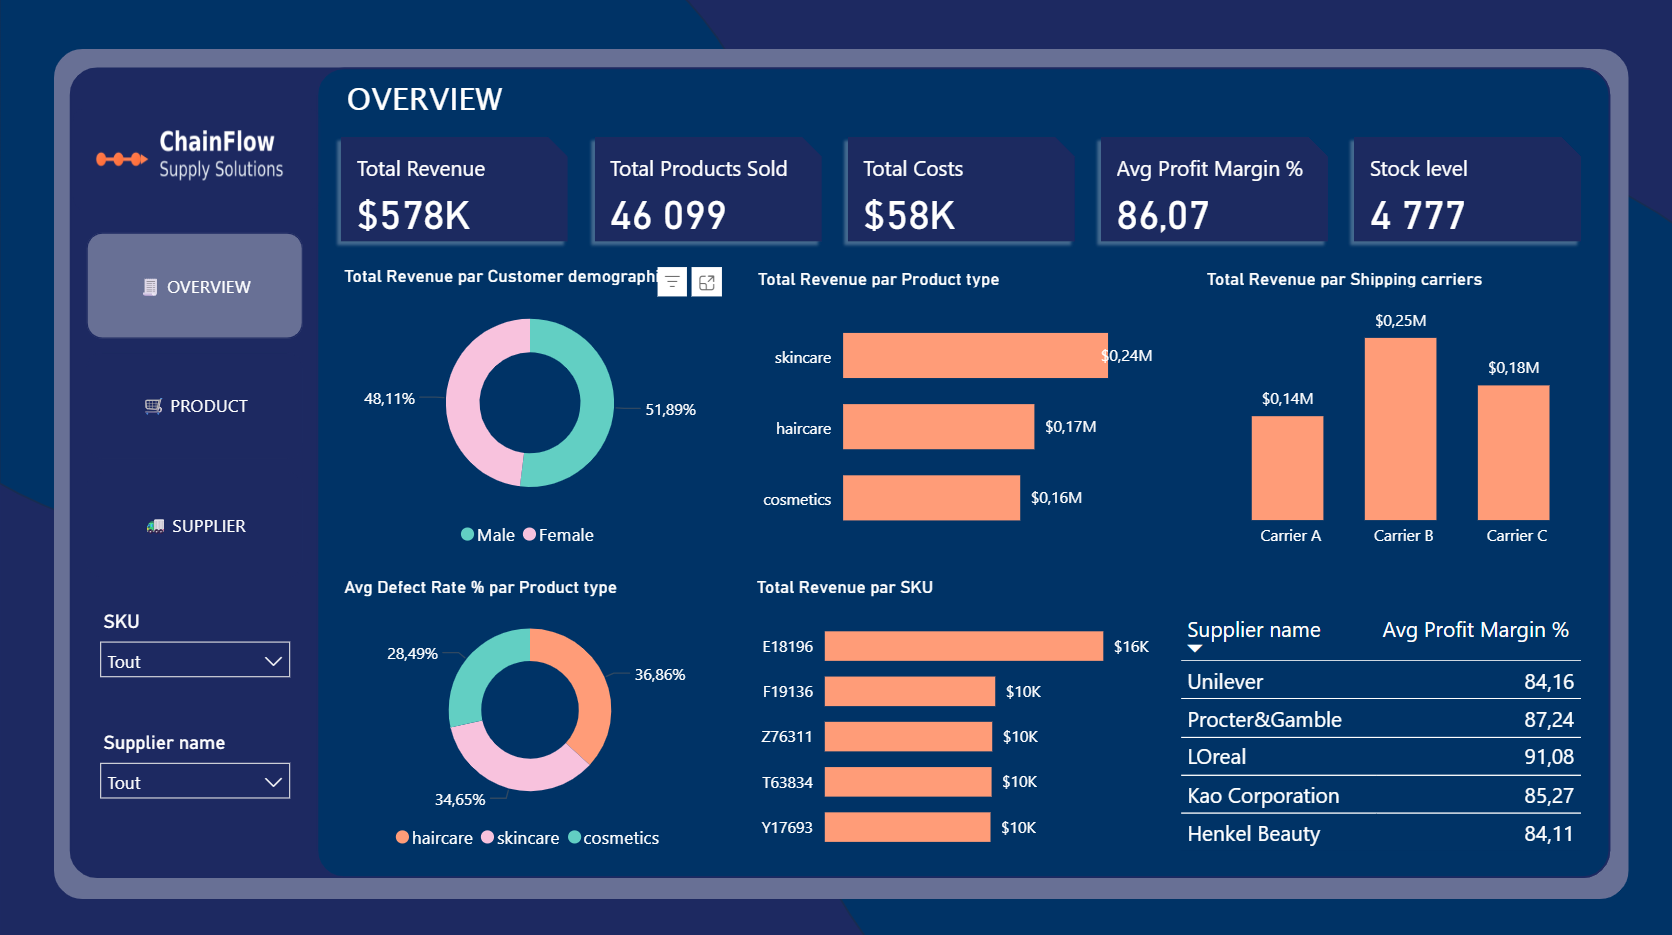

The page's visual inventory and layout, read from the dashboard file:
{"tool":"powerbi","page":{"name":"🧾    OVERVIEW","canvas":[1280,720],"ordinal":0},"visuals":[{"type":"cardVisual","fields":{"Data":["_Measures.Total Revenue","_Measures.Total Products Sold","_Measures.Total Costs","_Measures.Avg Profit Margin %","_Measures.Stock level"]},"box":[249.9,93.1,970.5,102.5],"z":0},{"type":"donutChart","fields":{"Y":["_Measures.Total Revenue"],"Category":["supply_chain_data.Customer demographics"]},"box":[258.4,203.2,293.3,223.4],"z":1000},{"type":"donutChart","fields":{"Category":["supply_chain_data.Product type"],"Y":["_Measures.Avg Defect Rate %"]},"box":[258.4,440.5,293.3,217],"z":2000},{"type":"clusteredBarChart","fields":{"Y":["_Measures.Total Revenue"],"Category":["supply_chain_data.Product type"]},"box":[573.1,205,310.6,221.7],"z":3000},{"type":"clusteredBarChart","fields":{"Y":["_Measures.Total Revenue"],"Category":["supply_chain_data.SKU"]},"box":[572,440.3,310.6,221.7],"z":4000},{"type":"columnChart","fields":{"Y":["_Measures.Total Revenue"],"Category":["supply_chain_data.Shipping carriers"]},"box":[915,205,310.6,221.7],"z":5000},{"type":"tableEx","fields":{"Values":["supply_chain_data.Supplier name","_Measures.Avg Profit Margin %"]},"box":[894.7,459.7,330.7,197.6],"z":6000},{"type":"textbox","box":[260.4,52.3,245.8,52.3],"z":7000},{"type":"pageNavigator","box":[66.9,176.7,165.2,264.6],"z":8000},{"type":"slicer","fields":{"Values":["supply_chain_data.SKU"]},"box":[66.9,460.1,165.2,58.6],"z":9000},{"type":"slicer","fields":{"Values":["supply_chain_data.Supplier name"]},"box":[66.9,552.2,165.2,58.6],"z":10000},{"type":"image","box":[51.2,78.4,198.7,86.8],"z":11000}]}

Visuals, with their boxes in screenshot pixels (x1, y1, x2, y2), scaled from the page's 1280x720 canvas onto the 1672x935 screenshot:
cardVisual - _Measures.Total Revenue x _Measures.Total Products Sold: <bbox>326, 121, 1594, 254</bbox>
donutChart - _Measures.Total Revenue x supply_chain_data.Customer demographics: <bbox>338, 264, 721, 554</bbox>
donutChart - supply_chain_data.Product type x _Measures.Avg Defect Rate %: <bbox>338, 572, 721, 854</bbox>
clusteredBarChart - _Measures.Total Revenue x supply_chain_data.Product type: <bbox>749, 266, 1154, 554</bbox>
clusteredBarChart - _Measures.Total Revenue x supply_chain_data.SKU: <bbox>747, 572, 1153, 860</bbox>
columnChart - _Measures.Total Revenue x supply_chain_data.Shipping carriers: <bbox>1195, 266, 1601, 554</bbox>
tableEx - supply_chain_data.Supplier name x _Measures.Avg Profit Margin %: <bbox>1169, 597, 1601, 854</bbox>
textbox: <bbox>340, 68, 661, 136</bbox>
pageNavigator: <bbox>87, 229, 303, 573</bbox>
slicer - supply_chain_data.SKU: <bbox>87, 597, 303, 674</bbox>
slicer - supply_chain_data.Supplier name: <bbox>87, 717, 303, 793</bbox>
image: <bbox>67, 102, 326, 215</bbox>
